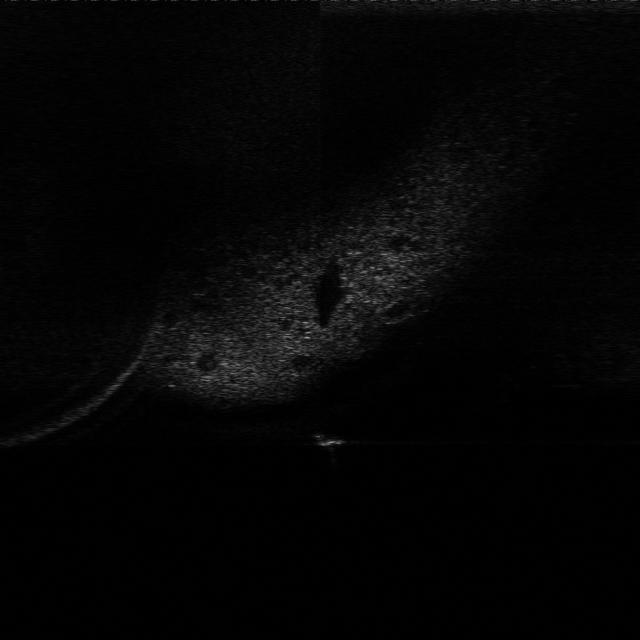cube: (312, 429, 357, 454)
